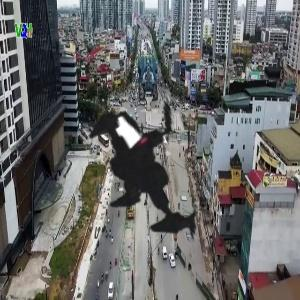drone: (43, 54, 273, 284)
